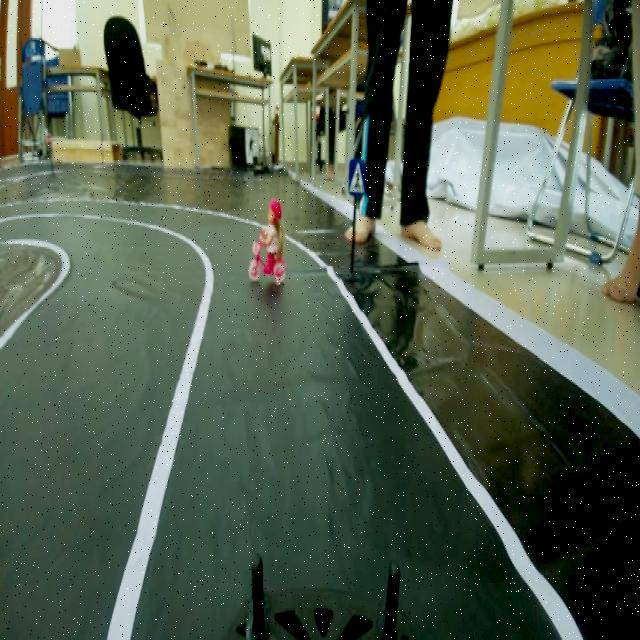crosswalk: (346, 154, 368, 210)
pedestrian: (241, 192, 288, 288)
